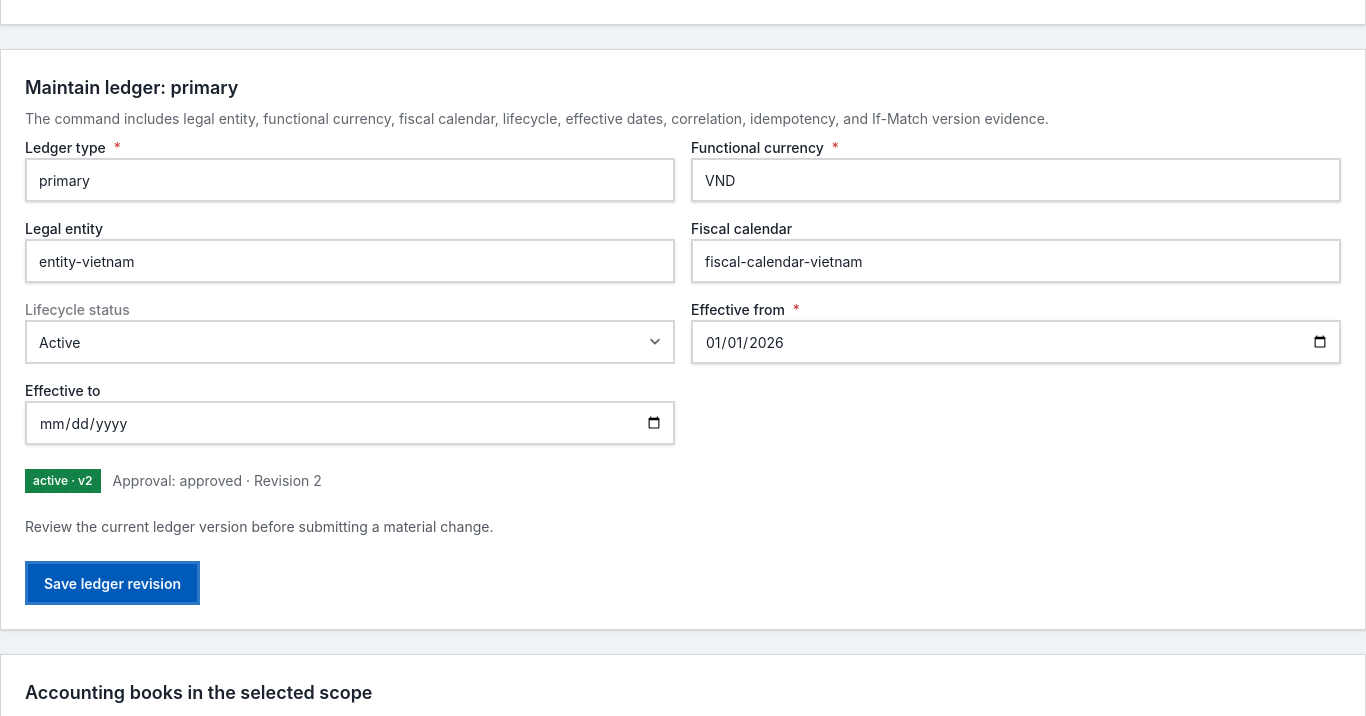
GL ledger and accounting-book workspace › shows scoped safe projections and blocks an invalid lifecycle transition
The image size is (1366, 716).
(page scrolled)
Step 1. Select "Draft" in the dropdown labelled "Lifecycle status" → (350, 342), box [25,320,675,364]
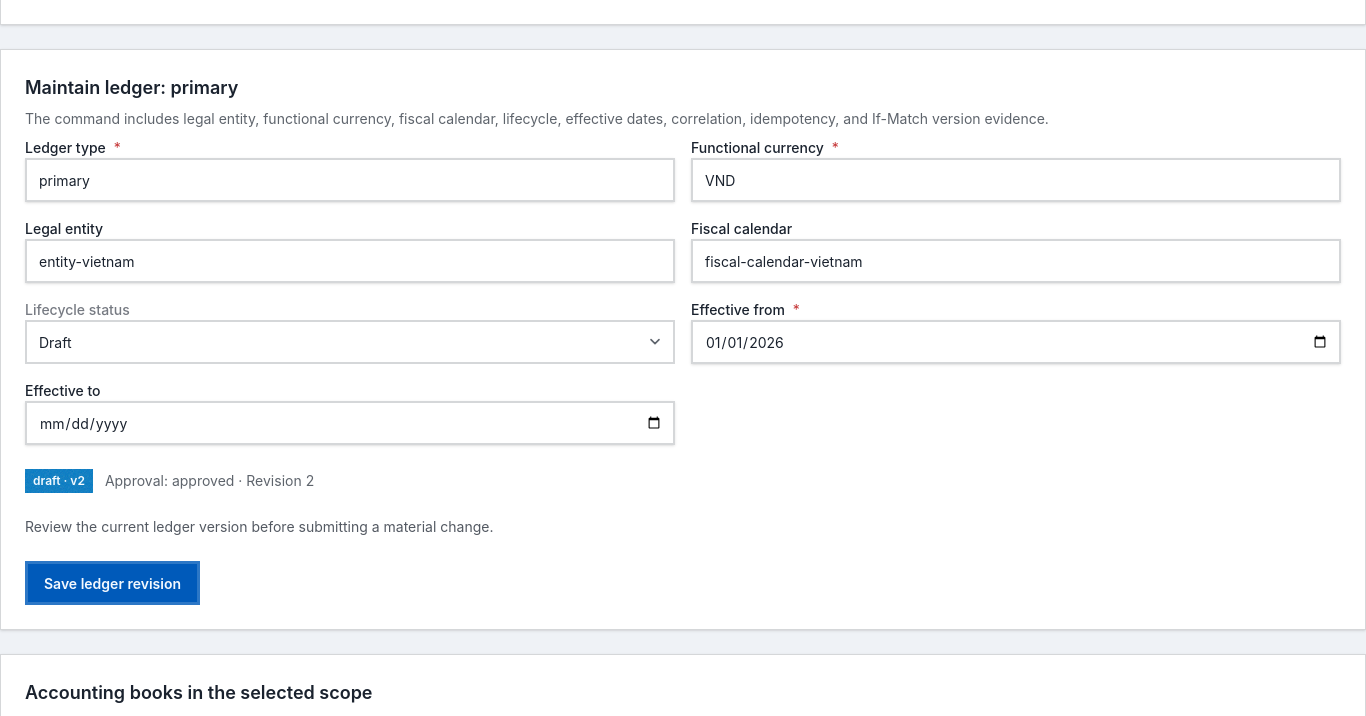
Step 2. Click the button "Save ledger revision" → (113, 583), box [25,561,200,605]
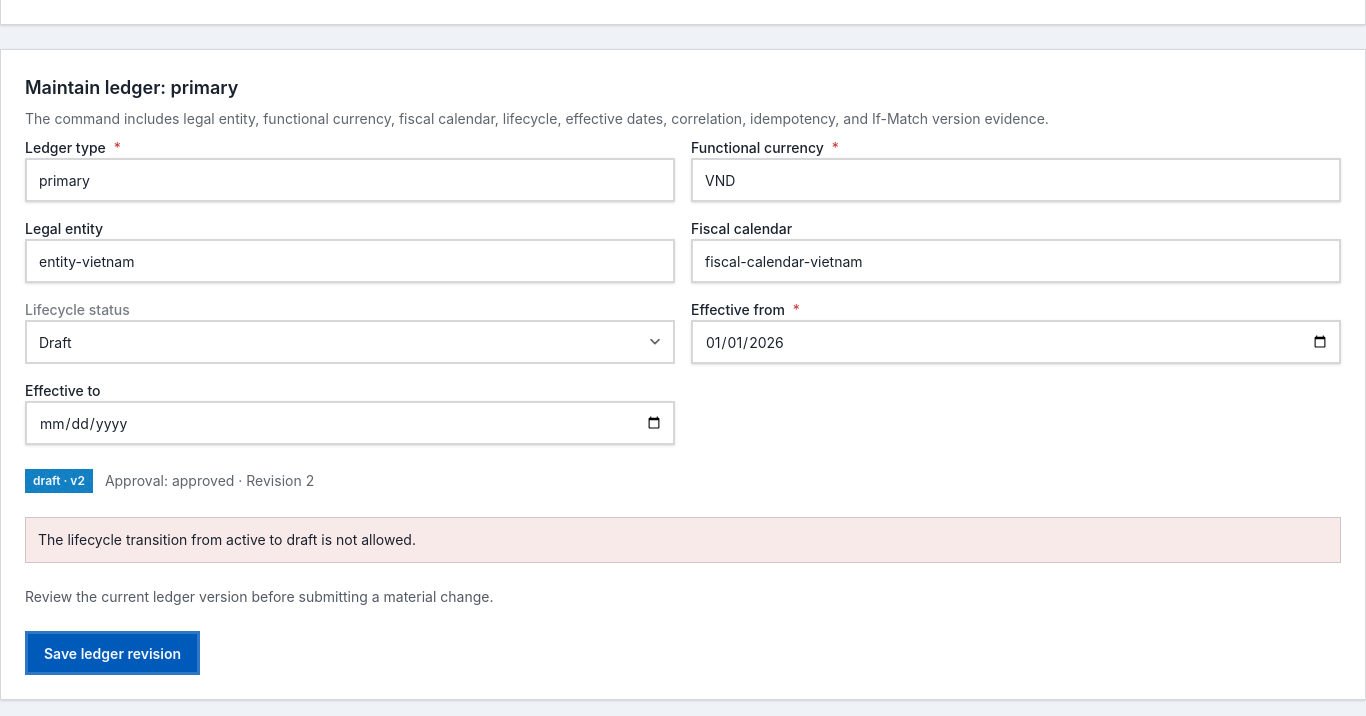
Check: the message "The lifecycle transition from active to draft is not allowed." is shown, box [25,517,1341,563]
